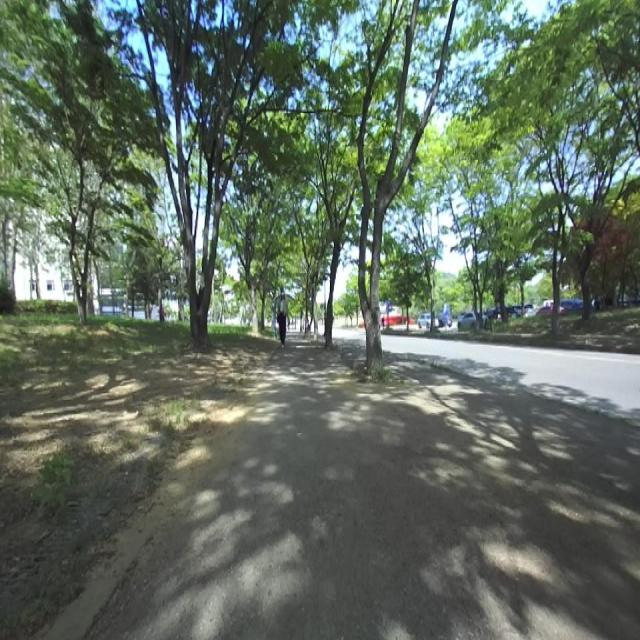sidewalk: (83, 340, 640, 640)
